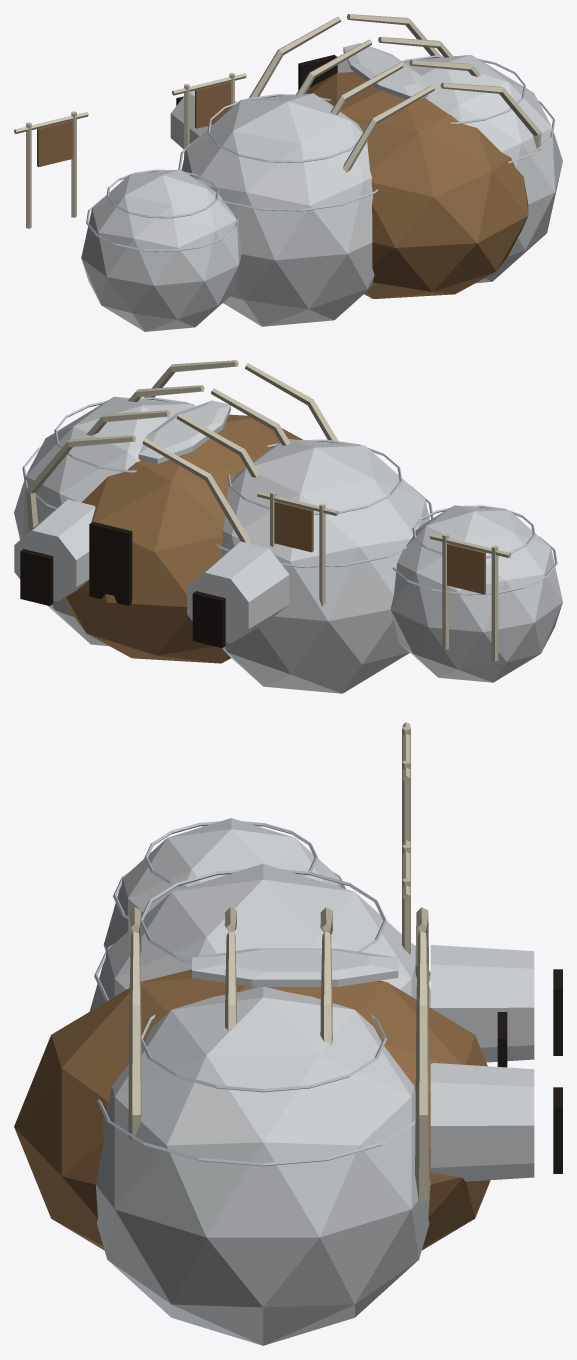
Rendered from owl_row_broken.glb.
The picture shows the model from 3 angles, top to bottom: view 1: azimuth 30°, elevation 25°; view 2: azimuth 150°, elevation 25°; view 3: azimuth 270°, elevation 25°; orthographic projection. The views are drawn at different scales.
Visible parts, largest first — view 1: owl_row_piece6, owl_row_piece8, owl_row_piece9, owl_row_piece0, owl_row_piece1, owl_row_piece4, owl_row_piece7, owl_row_piece5, owl_row_piece10, owl_row_piece12, owl_row_piece3, owl_row_piece2 (+1 smaller); view 2: owl_row_piece2, owl_row_piece12, owl_row_piece5, owl_row_piece4, owl_row_piece9, owl_row_piece0, owl_row_piece10, owl_row_piece7, owl_row_piece1, owl_row_piece6; view 3: owl_row_piece4, owl_row_piece8, owl_row_piece2, owl_row_piece10, owl_row_piece7, owl_row_piece6, owl_row_piece9, owl_row_piece1, owl_row_piece0, owl_row_piece5, owl_row_piece12.
Boxes of the visible parts, x1,y1,x2,y2 form: owl_row_piece6: [264, 84, 466, 318]; owl_row_piece8: [394, 82, 556, 292]; owl_row_piece9: [158, 96, 284, 296]; owl_row_piece0: [83, 170, 169, 331]; owl_row_piece1: [188, 97, 329, 327]; owl_row_piece4: [363, 15, 562, 235]; owl_row_piece7: [290, 14, 457, 112]; owl_row_piece5: [14, 90, 194, 285]; owl_row_piece10: [172, 30, 312, 136]; owl_row_piece12: [149, 98, 203, 330]; owl_row_piece3: [258, 105, 343, 326]; owl_row_piece2: [284, 23, 353, 98]; owl_row_piece2: [14, 446, 288, 662]; owl_row_piece12: [187, 514, 475, 682]; owl_row_piece5: [192, 533, 536, 670]; owl_row_piece4: [14, 362, 204, 636]; owl_row_piece9: [264, 452, 540, 554]; owl_row_piece0: [413, 514, 562, 682]; owl_row_piece10: [125, 454, 354, 601]; owl_row_piece7: [112, 385, 285, 501]; owl_row_piece1: [213, 442, 432, 693]; owl_row_piece6: [226, 363, 420, 494]; owl_row_piece4: [118, 950, 473, 1345]; owl_row_piece8: [14, 923, 185, 1313]; owl_row_piece2: [301, 902, 562, 1319]; owl_row_piece10: [339, 840, 534, 1056]; owl_row_piece7: [179, 904, 427, 1040]; owl_row_piece6: [89, 893, 256, 1026]; owl_row_piece9: [103, 828, 353, 947]; owl_row_piece1: [104, 877, 305, 950]; owl_row_piece0: [126, 818, 339, 886]; owl_row_piece5: [329, 722, 562, 1055]; owl_row_piece12: [235, 829, 534, 1062].
Size of the model in its own units: 3.47 by 1.64 by 2.24.
